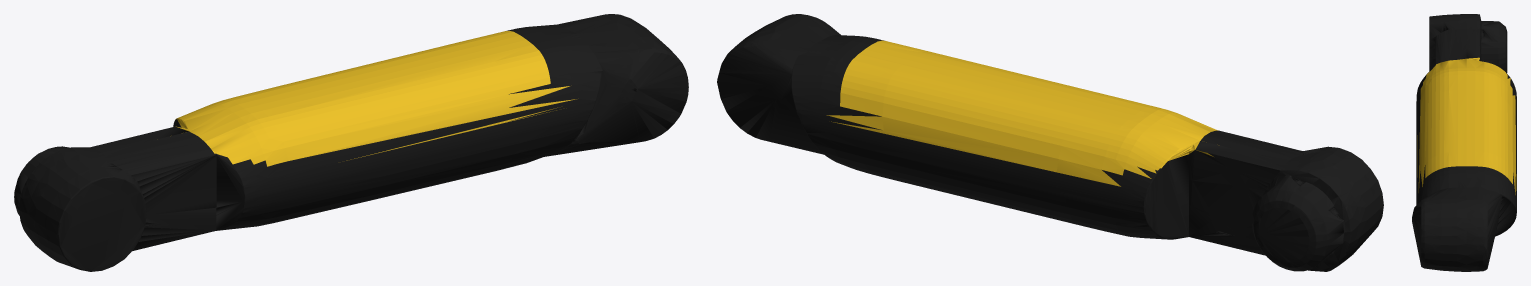
File: arm0.link_hr0.glb
The picture shows the model from 3 angles, left to right: view 1: azimuth 30°, elevation 25°; view 2: azimuth 150°, elevation 25°; view 3: azimuth 270°, elevation 25°; orthographic projection. The views are drawn at different scales.
Visible parts, largest first — view 1: arm0.link_hr0.001; view 2: arm0.link_hr0.001; view 3: arm0.link_hr0.001.
Boxes of the visible parts, box(x1,y1,x2,y2) form: arm0.link_hr0.001: box(14, 14, 688, 271); arm0.link_hr0.001: box(717, 14, 1383, 271); arm0.link_hr0.001: box(1412, 14, 1516, 271).
Bounding box in the file's own units: 0.3984 × 0.0661 × 0.0824.
